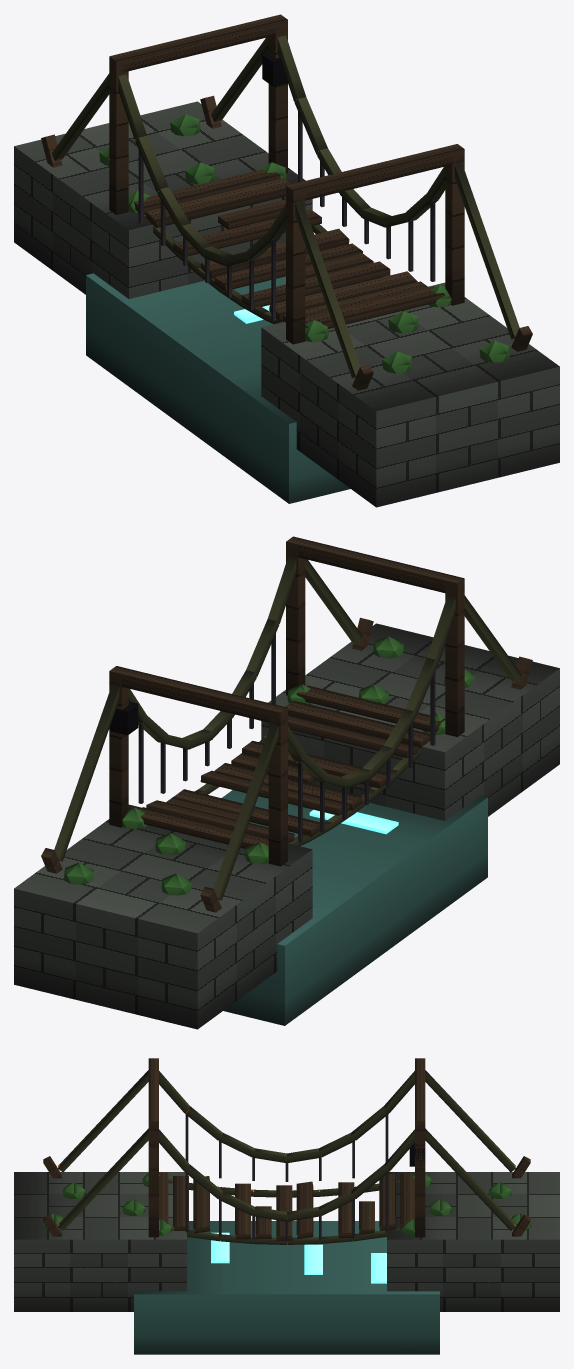
The model's file is foot_bridge.glb.
The picture shows the model from 3 angles, top to bottom: view 1: azimuth 30°, elevation 25°; view 2: azimuth 150°, elevation 25°; view 3: azimuth 270°, elevation 25°; orthographic projection. The views are drawn at different scales.
Parts seen in each view (by area): view 1: foot_bridge; view 2: foot_bridge; view 3: foot_bridge.
Part boxes in pixels (x1,y1,x2,y2): foot_bridge: (14, 14, 559, 507); foot_bridge: (14, 536, 559, 1029); foot_bridge: (14, 1058, 559, 1354).
Bounding box in the file's own units: 1.3 × 1.89 × 4.1.
Materials: 1 (1 with a texture image).
